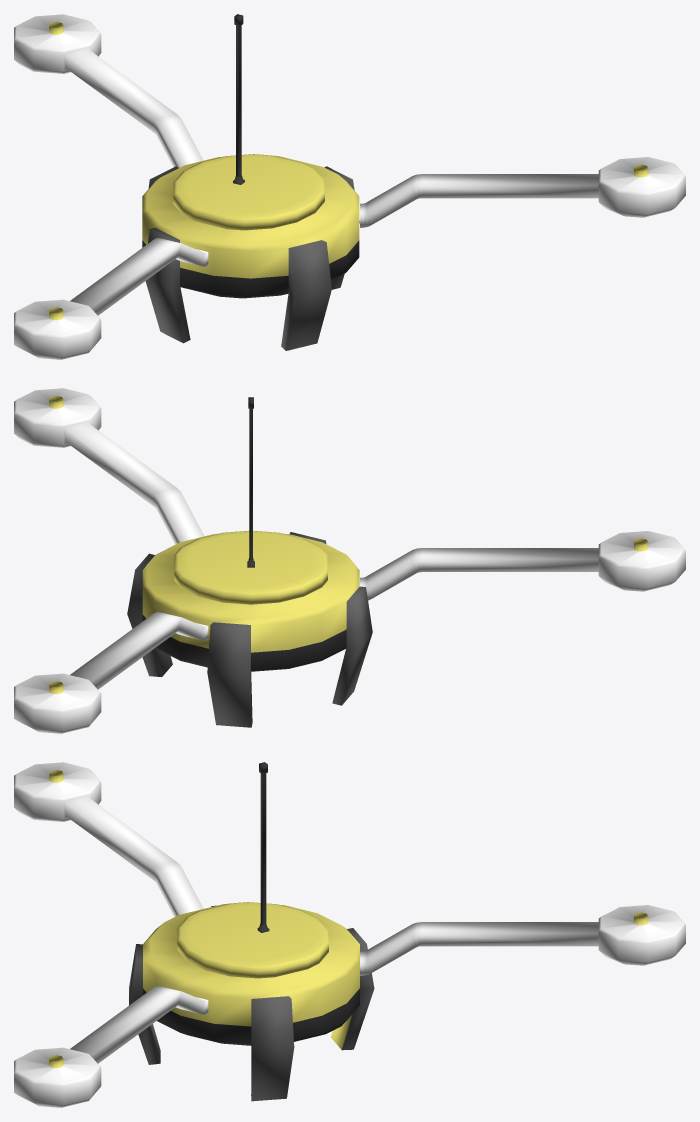
File: Box Drone body smooth.fbx
3 views of the same model, one above another, from view 1: azimuth 30°, elevation 25°; view 2: azimuth 150°, elevation 25°; view 3: azimuth 270°, elevation 25° (orthographic).
Visible parts, largest first — view 1: Box Drone; view 2: Box Drone; view 3: Box Drone.
Boxes of the visible parts, box(x1,y1,x2,y2) form: Box Drone: box(14, 14, 685, 359); Box Drone: box(14, 388, 685, 733); Box Drone: box(14, 762, 685, 1107).
Size of the model in its own units: 84.07 by 35.31 by 73.97.
